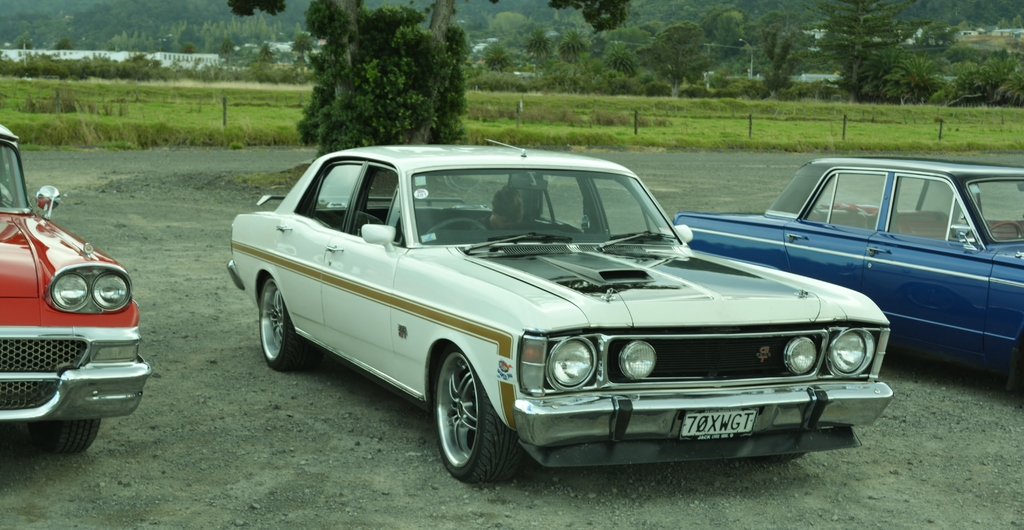Car: (226, 137, 894, 485), (672, 155, 1024, 390), (0, 124, 152, 452)
